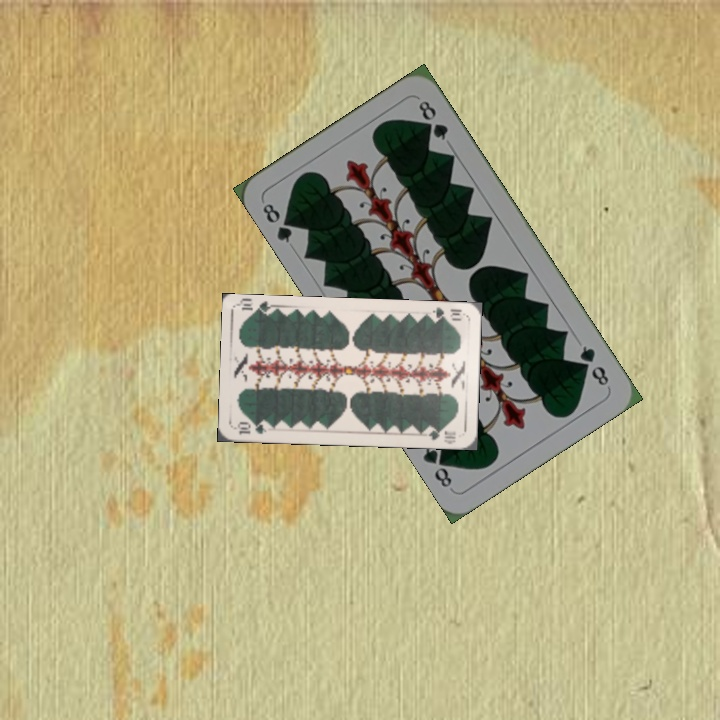G10: (425, 304, 464, 324), (232, 418, 269, 437)
G8: (258, 199, 299, 246), (575, 341, 612, 389)
